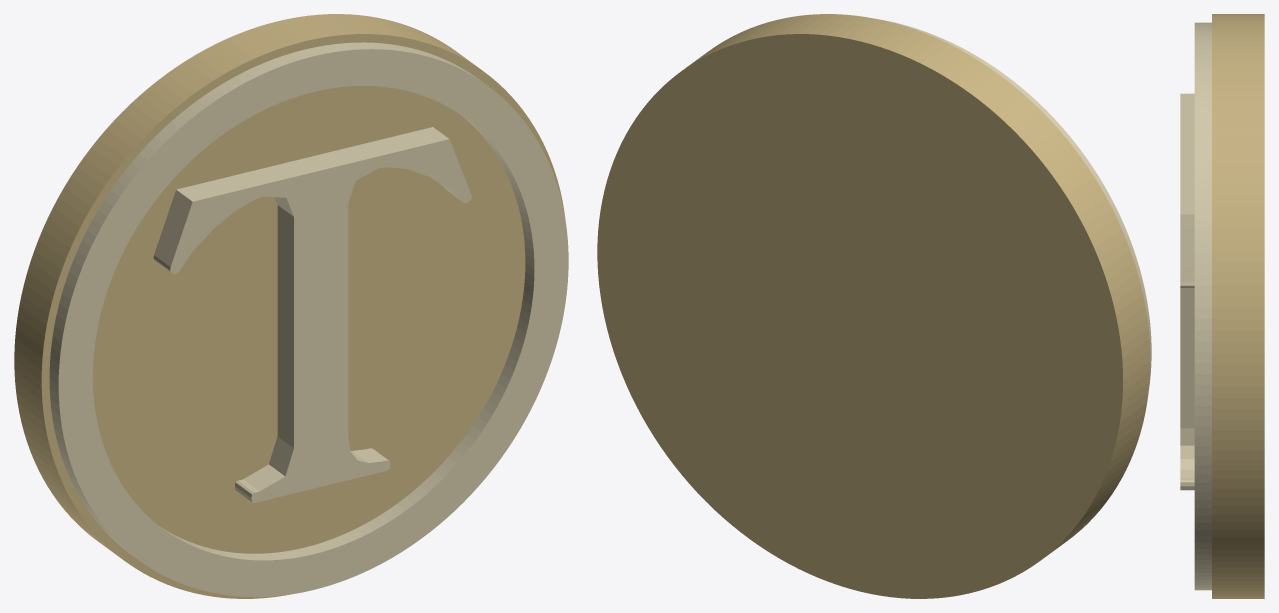
The model's file is medal-tool.glb.
3 renders of one model, left to right at view 1: azimuth 30°, elevation 25°; view 2: azimuth 150°, elevation 25°; view 3: azimuth 270°, elevation 25°, orthographic. The views are drawn at different scales.
Parts seen in each view (by area): view 1: world; view 2: world; view 3: world.
Part boxes in pixels (x1,y1,x2,y2): world: (14, 14, 568, 598); world: (597, 14, 1151, 598); world: (1180, 14, 1264, 598).
Size of the model in its own units: 2 by 2 by 0.2892.
